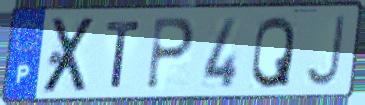4: (200, 15, 240, 91)
J: (302, 14, 348, 90)
P: (144, 15, 197, 92)
Q: (249, 13, 297, 91)
T: (104, 19, 144, 90)
X: (39, 14, 99, 96)
